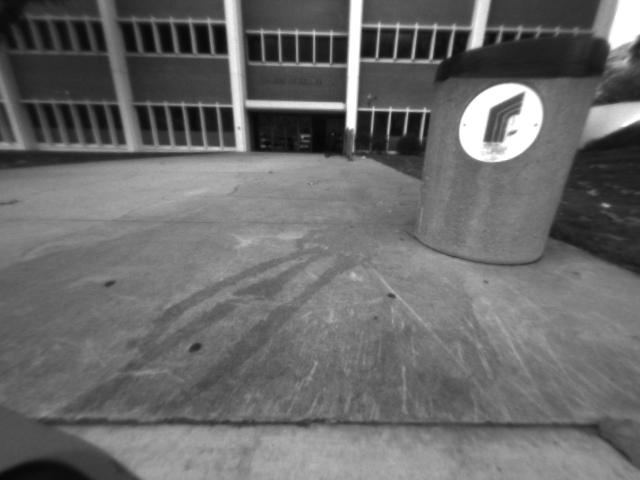trashcan: (398, 23, 621, 289)
